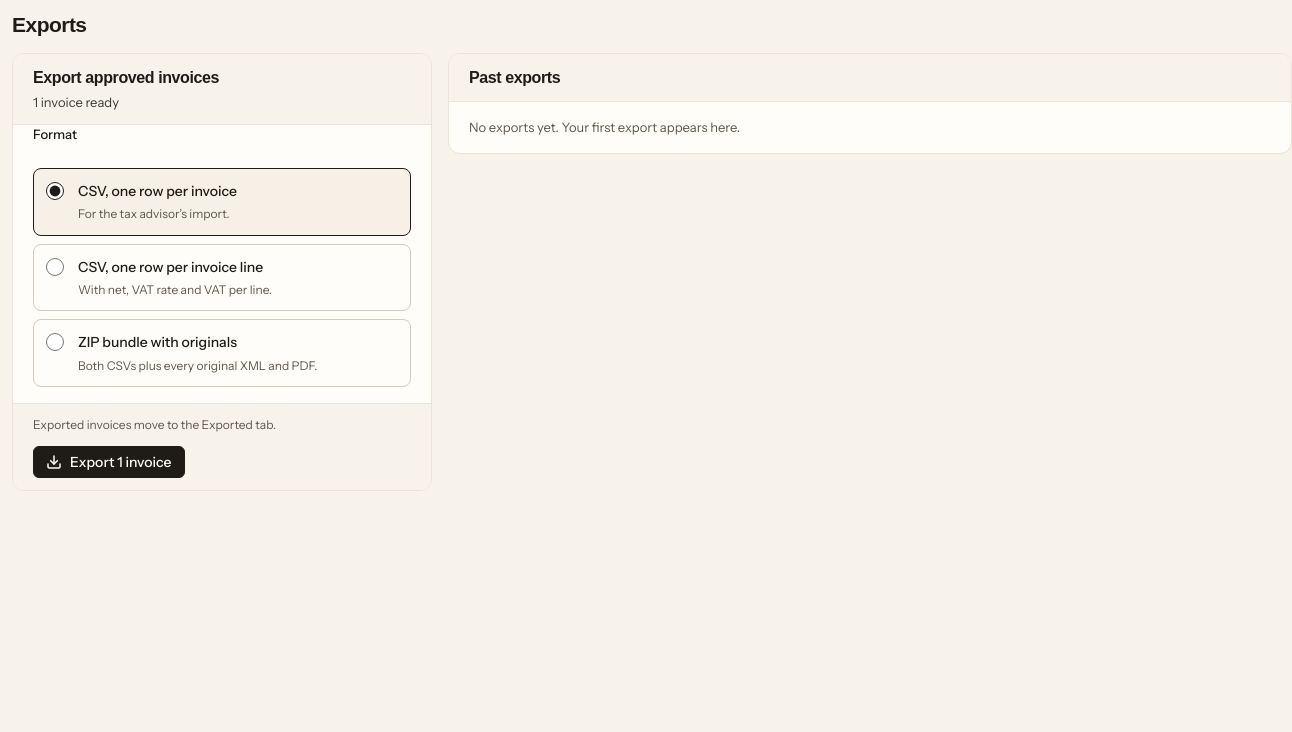
Scenario: ExportsView creating an export › exports in the chosen format, then refreshes the list
Click the 2nd radio button: (55, 267) x1=46 y1=258 x2=64 y2=276
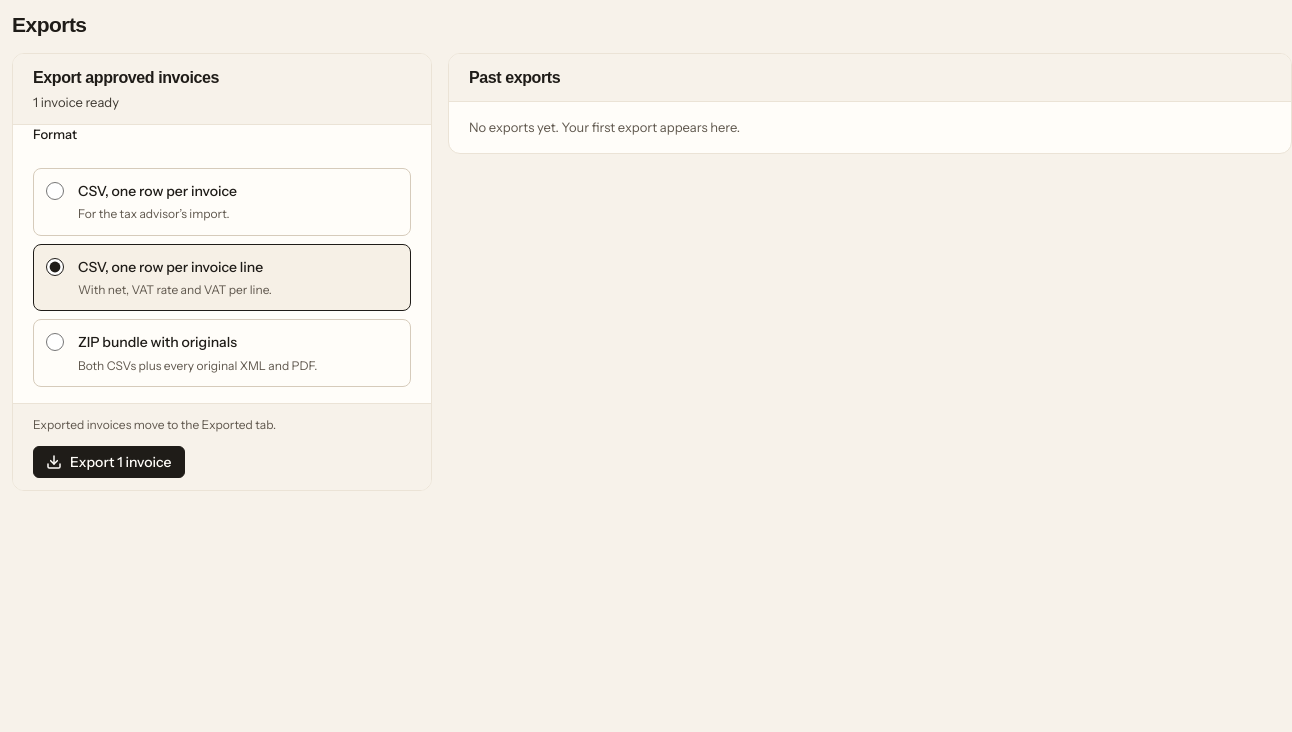
Click the button "Export 1 invoice": (109, 462) x1=33 y1=446 x2=184 y2=478
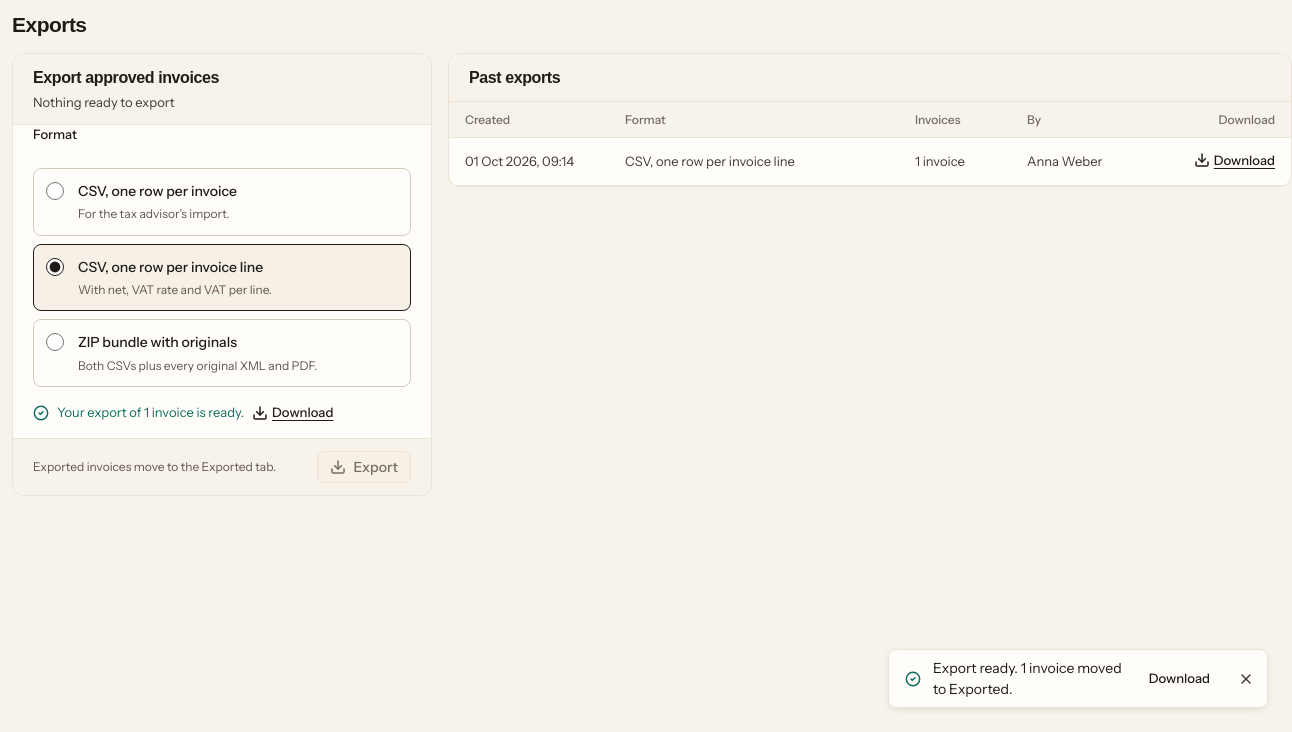
Result: the text "Export ready. 1 invoice moved to Exported." is shown at x1=933 y1=658 x2=1128 y2=699
Result: the row that starts with "01 Oct 2026, 09:14" shows "CSV, one row per invoice line" at x1=625 y1=154 x2=795 y2=170
Result: the text "Nothing ready to export" is shown at x1=33 y1=94 x2=175 y2=110
